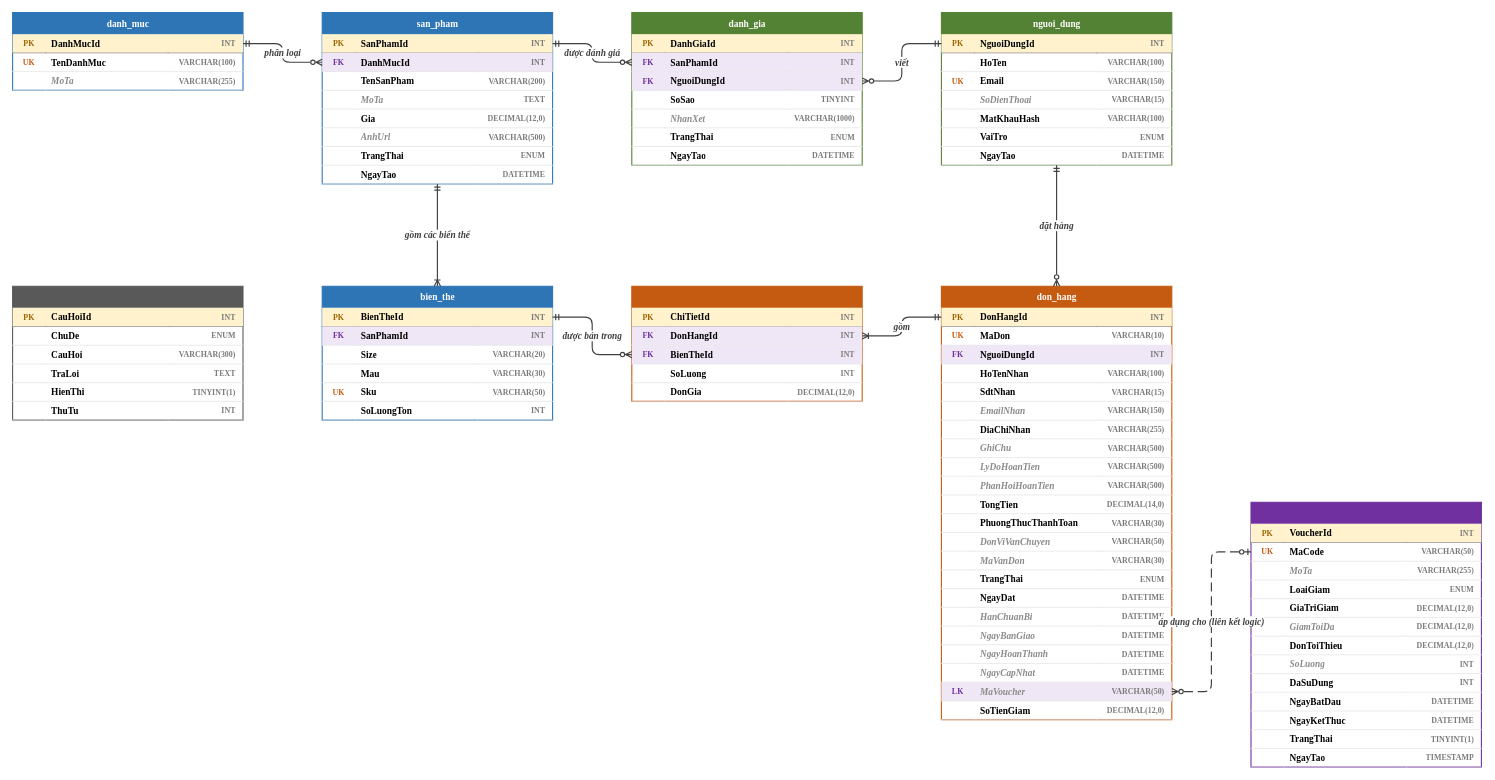
Some shapes in this 1495 by 780 pixel diagram are drawn without their labels. Each missing label, with the box of its shape:
cau_hoi_thuong_gap: (12, 285, 243, 420)
chi_tiet_don_hang: (631, 285, 862, 402)
ma_giam_gia: (1250, 501, 1482, 767)
